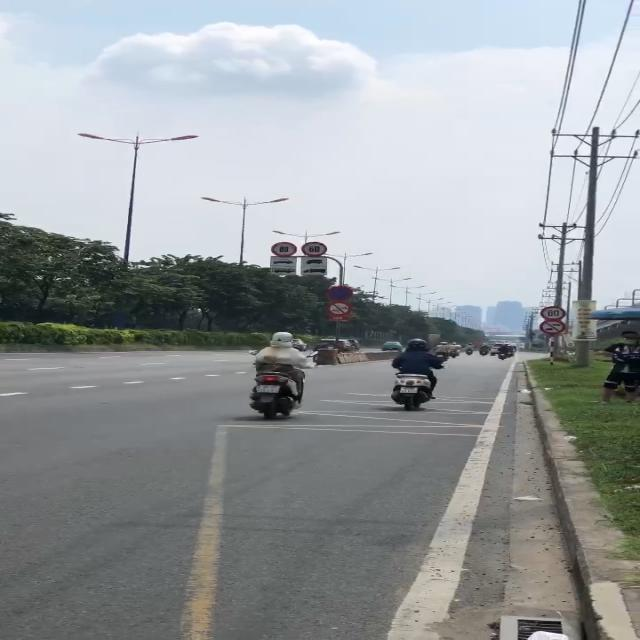Bien bao toc do toi da cho phep: (539, 304, 571, 320), (299, 240, 328, 256)
